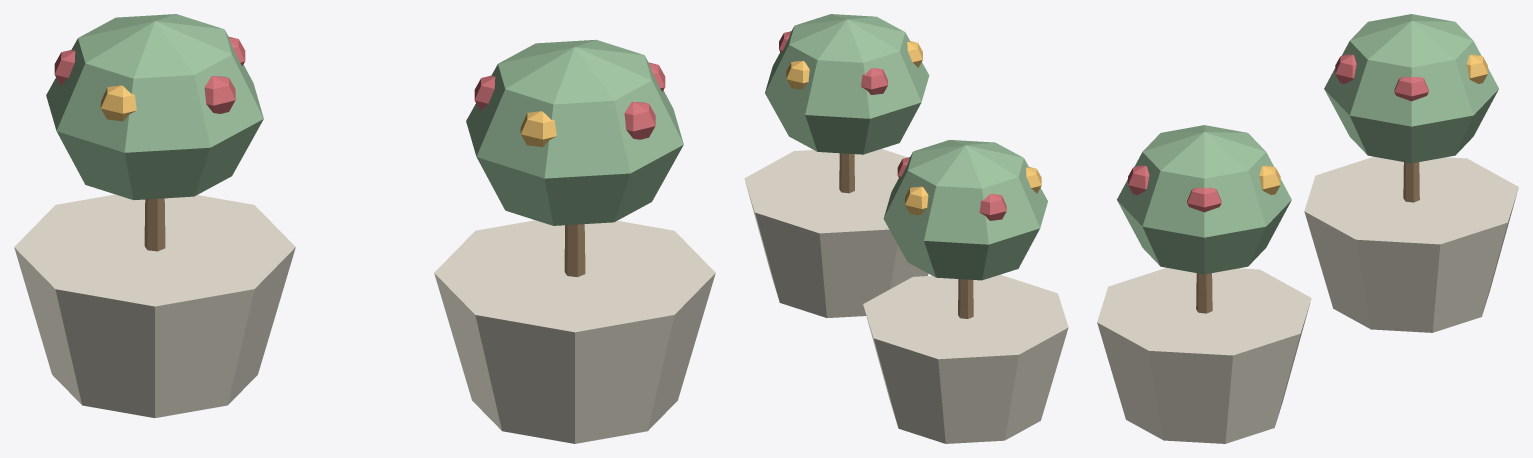
The model's file is FloristTerracePots.glb.
3 renders of one model, left to right at view 1: azimuth 30°, elevation 25°; view 2: azimuth 150°, elevation 25°; view 3: azimuth 270°, elevation 25°, orthographic. The views are drawn at different scales.
Parts seen in each view (by area): view 1: FloristTerracePots; view 2: FloristTerracePots; view 3: FloristTerracePots.
Part boxes in pixels (bbox=[...]): FloristTerracePots: bbox=[14, 14, 715, 443]; FloristTerracePots: bbox=[744, 14, 1068, 443]; FloristTerracePots: bbox=[1097, 14, 1518, 443].
Size of the model in its own units: 2.23 by 1.44 by 1.97.
